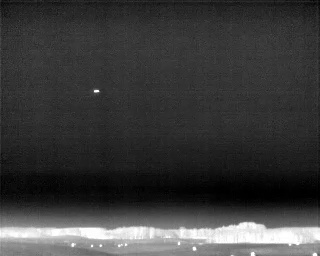AIRPLANE: (92, 86, 102, 96)
